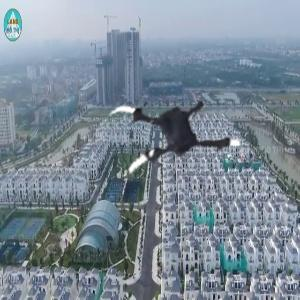drone: (100, 72, 242, 214)
